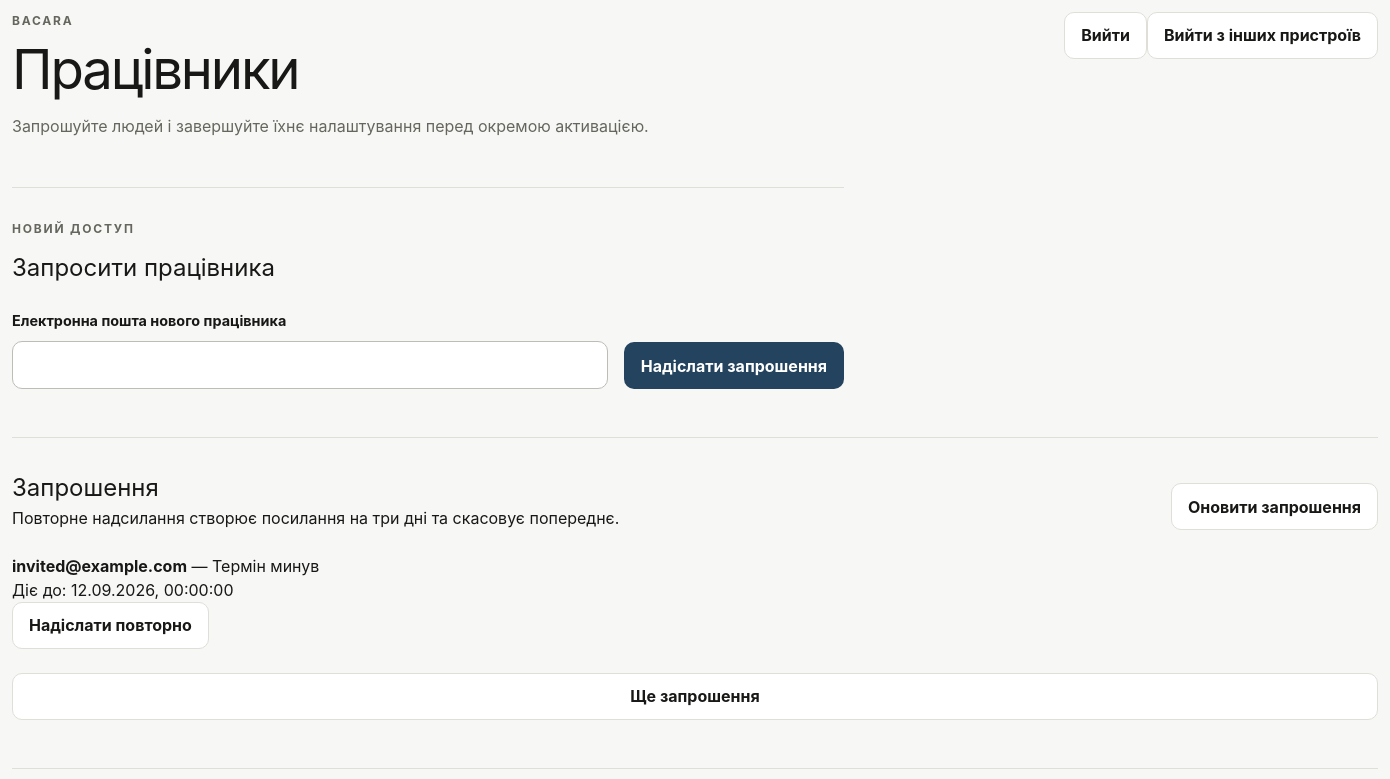
Test case: loads additional invitations and keeps terminal invitations non-actionable
The image size is (1390, 779).
Click the button "Ще запрошення" at {"x": 695, "y": 696}, box left=12, top=673, right=1378, bottom=720
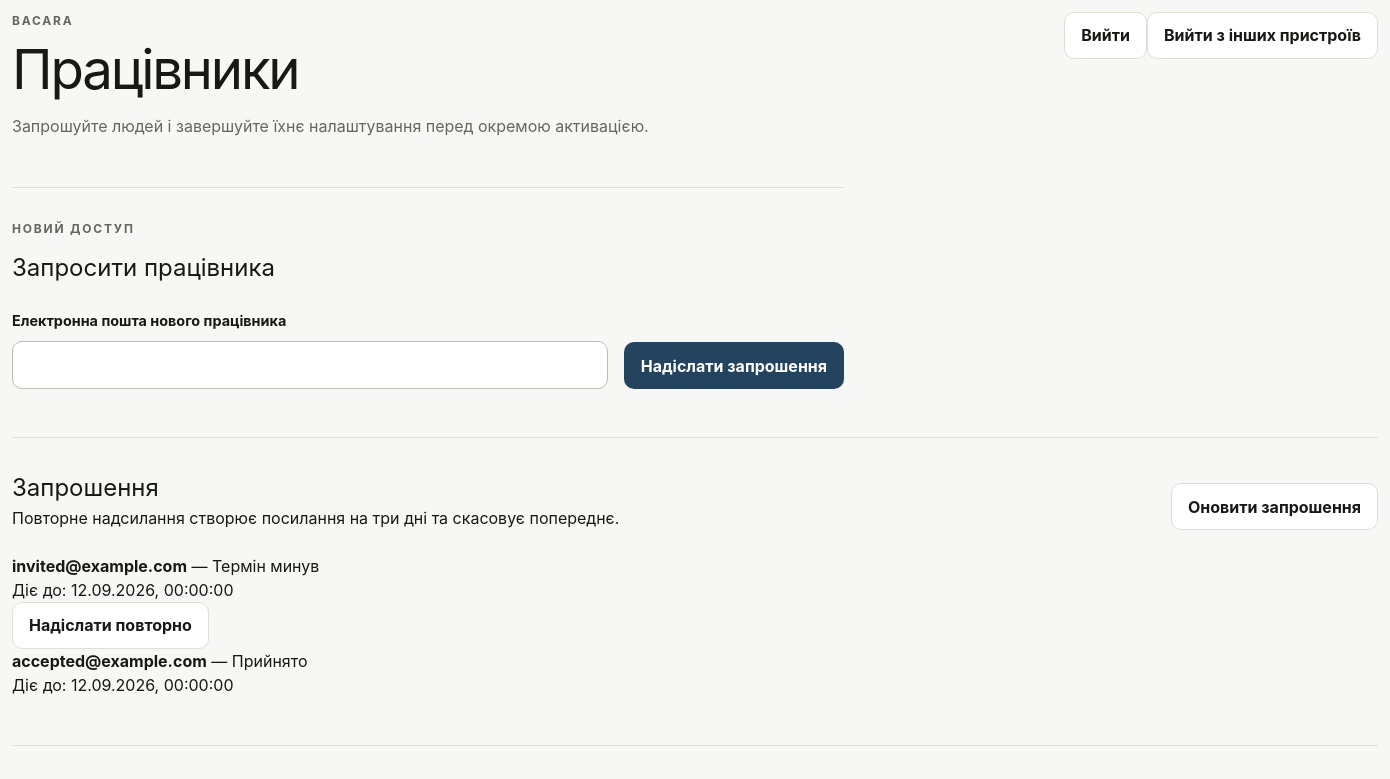
Expected: the text "invited@example.com" is shown, left=12, top=556, right=187, bottom=576
Now the text "accepted@example.com" is shown, box left=12, top=651, right=207, bottom=671
